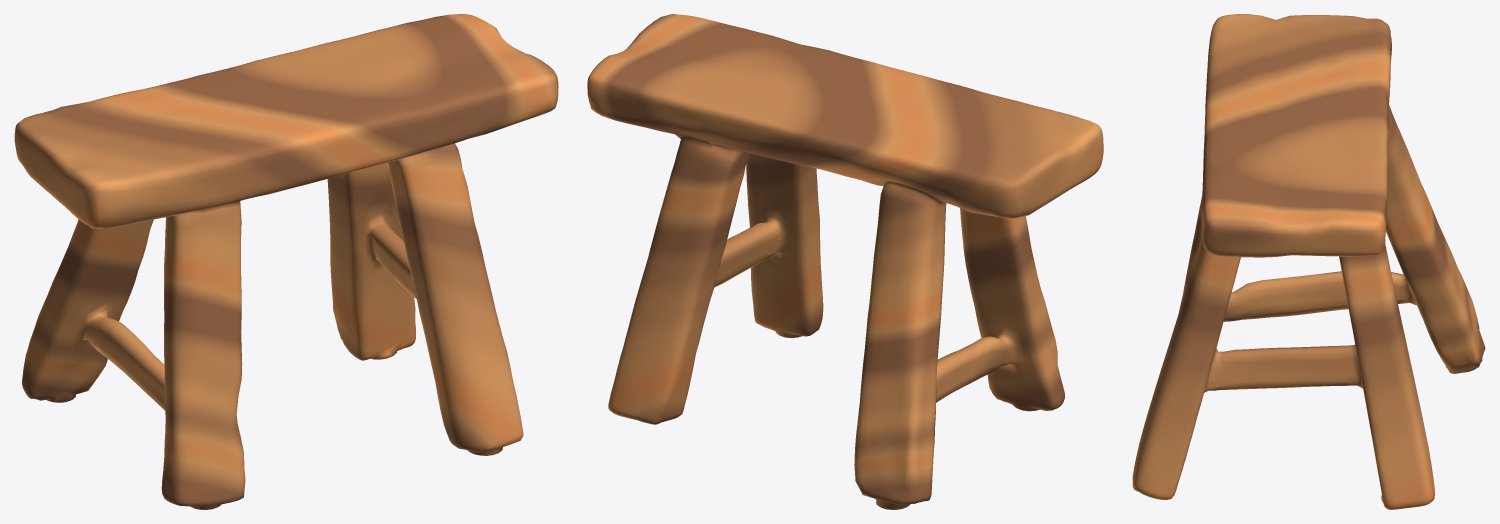
Rendered from wooden_stool_02_2k.fbx.
3 views of the same model, side by side, from view 1: azimuth 30°, elevation 25°; view 2: azimuth 150°, elevation 25°; view 3: azimuth 270°, elevation 25° (orthographic). The views are drawn at different scales.
Parts seen in each view (by area): view 1: wooden_stool_02; view 2: wooden_stool_02; view 3: wooden_stool_02.
Part boxes in pixels (x1,y1,x2,y2): wooden_stool_02: (14,14,558,509); wooden_stool_02: (587,14,1103,509); wooden_stool_02: (1132,14,1485,509).
Size of the model in its own units: 26.52 by 18.19 by 18.31.
